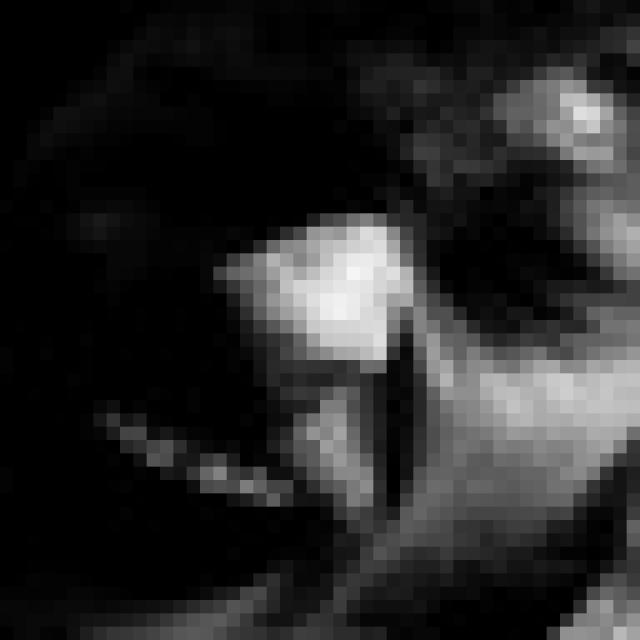angry: (49, 54, 614, 640)
